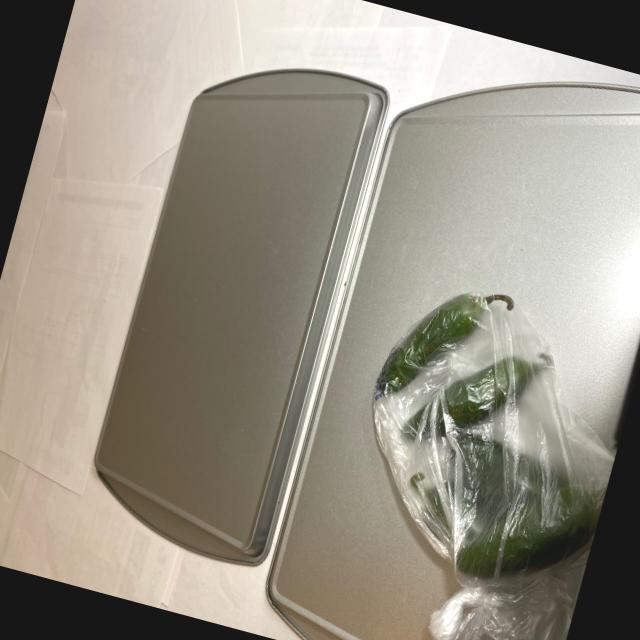chilli: (328, 270, 640, 622)
